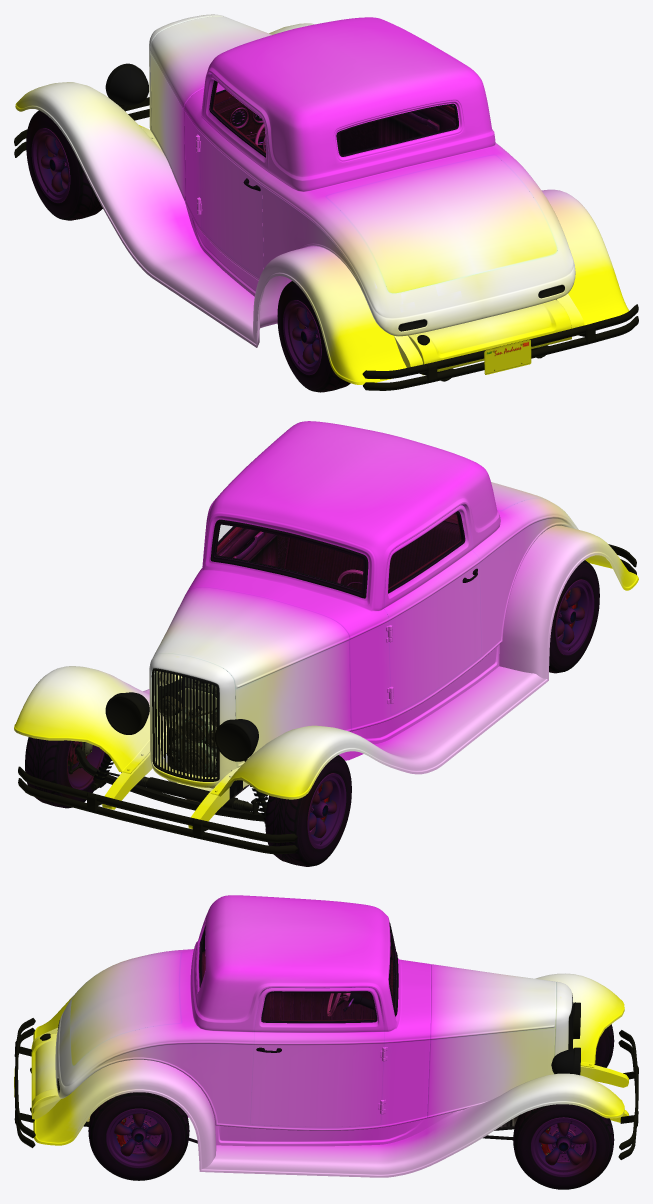
The model's file is hustler.glb.
The picture shows the model from 3 angles, top to bottom: view 1: azimuth 30°, elevation 25°; view 2: azimuth 150°, elevation 25°; view 3: azimuth 270°, elevation 25°; orthographic projection. The views are drawn at different scales.
Parts seen in each view (by area): view 1: bodyshell, extra_1, boot, door_dside_f, bumper_r, bonnet, wheel_lf, wheel_lr, windscreen_r, wing_lf, chassis, door_pside_f (+3 smaller); view 2: bodyshell, extra_1, door_dside_f, bonnet, misc_c, wing_lf, chassis, wheel_lf, bumper_f, misc_f, wheel_lr, transmission_f (+6 smaller); view 3: bodyshell, extra_1, door_pside_f, wing_rf, boot, bonnet, wheel_rr, wheel_rf, window_rf, door_dside_f, misc_f, misc_c (+4 smaller).
Part boxes in pixels (bbox=[...]): bodyshell: bbox=[139, 17, 584, 375]; extra_1: bbox=[15, 23, 629, 384]; boot: bbox=[326, 155, 557, 293]; door_dside_f: bbox=[196, 74, 268, 276]; bumper_r: bbox=[362, 304, 638, 390]; bonnet: bbox=[150, 16, 271, 109]; wheel_lf: bbox=[26, 110, 102, 220]; wheel_lr: bbox=[277, 281, 350, 392]; windscreen_r: bbox=[338, 106, 456, 154]; wing_lf: bbox=[150, 53, 185, 202]; chassis: bbox=[213, 89, 457, 155]; door_pside_f: bbox=[376, 105, 456, 146]; bodyshell: bbox=[102, 421, 578, 828]; extra_1: bbox=[14, 525, 638, 799]; door_dside_f: bbox=[384, 505, 481, 714]; bonnet: bbox=[153, 587, 349, 689]; misc_c: bbox=[149, 653, 236, 787]; wing_lf: bbox=[235, 641, 351, 767]; chassis: bbox=[94, 513, 460, 815]; wheel_lf: bbox=[265, 755, 351, 866]; bumper_f: bbox=[18, 766, 297, 854]; misc_f: bbox=[105, 519, 368, 761]; wheel_lr: bbox=[549, 560, 599, 673]; transmission_f: bbox=[67, 743, 267, 823]; bodyshell: bbox=[31, 895, 628, 1146]; extra_1: bbox=[33, 973, 624, 1177]; door_pside_f: bbox=[250, 987, 385, 1126]; wing_rf: bbox=[427, 1027, 555, 1117]; boot: bbox=[70, 952, 181, 1065]; bonnet: bbox=[430, 964, 556, 1040]; wheel_rr: bbox=[88, 1092, 189, 1180]; wheel_rf: bbox=[513, 1104, 614, 1189]; window_rf: bbox=[263, 993, 375, 1020]; door_dside_f: bbox=[262, 992, 375, 1019]; misc_f: bbox=[40, 922, 580, 1075]; misc_c: bbox=[553, 981, 573, 1074].
Bounding box in the file's own units: 1.87 × 1.54 × 4.14.
18 materials, 18 textured.
